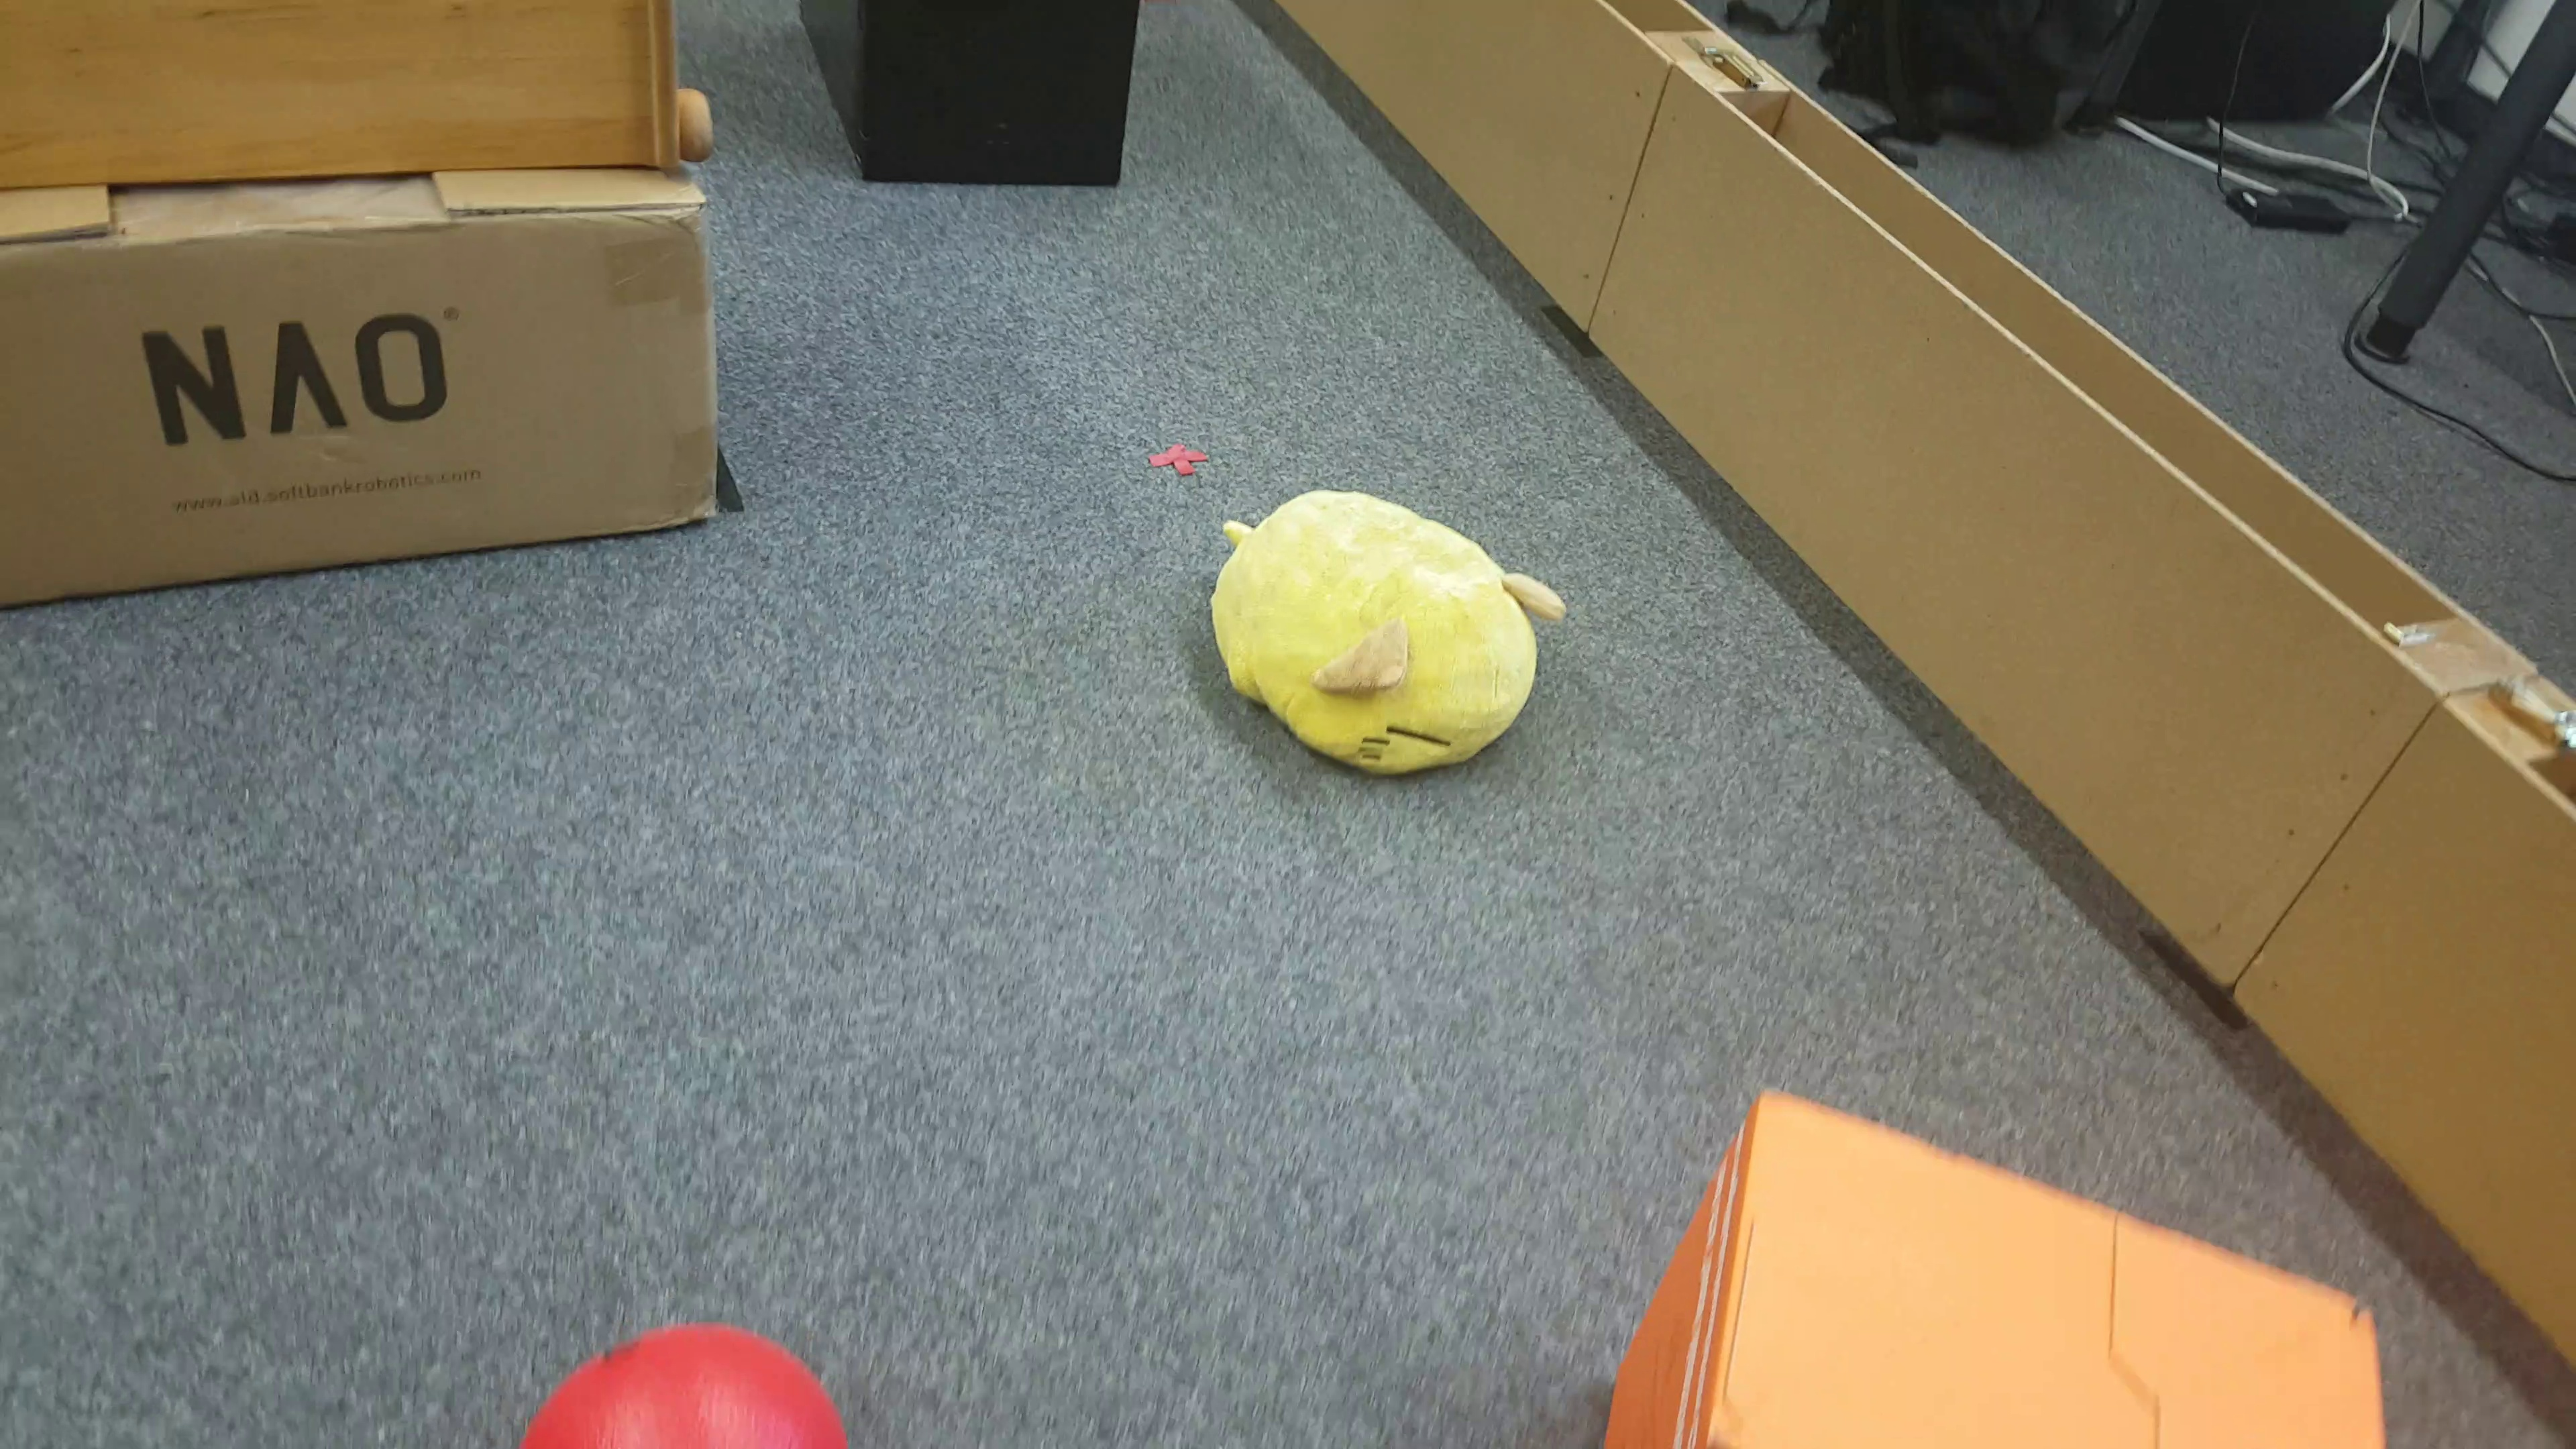grasp: (1200, 483, 1560, 791)
kick: (508, 1322, 846, 1449)
push: (1596, 1088, 2376, 1449), (796, 0, 1150, 203)
